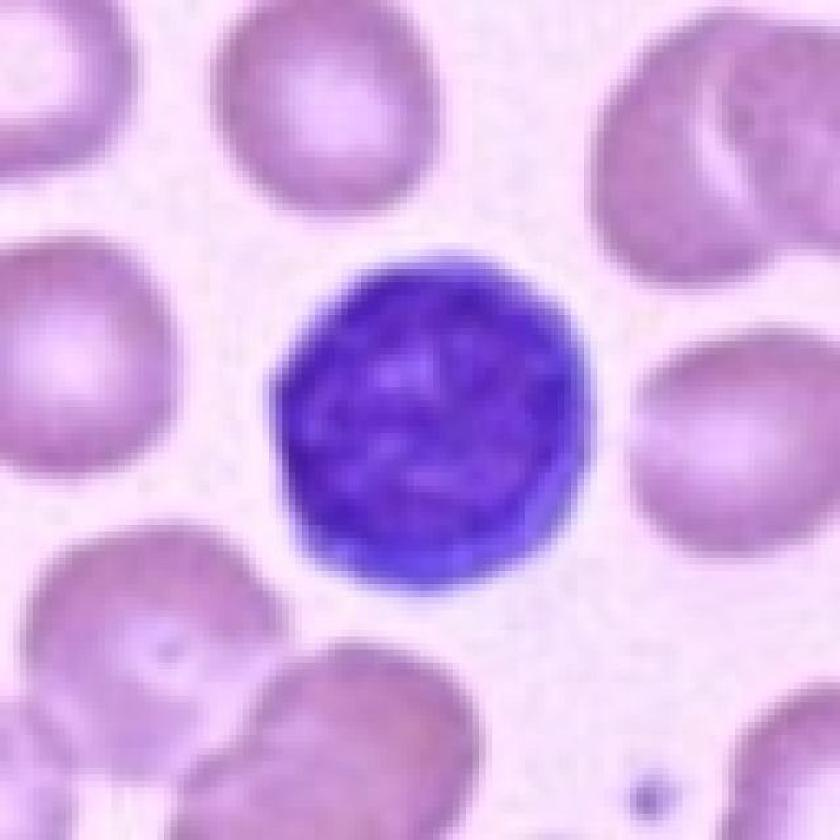lymphocyte: (264, 234, 608, 612)
